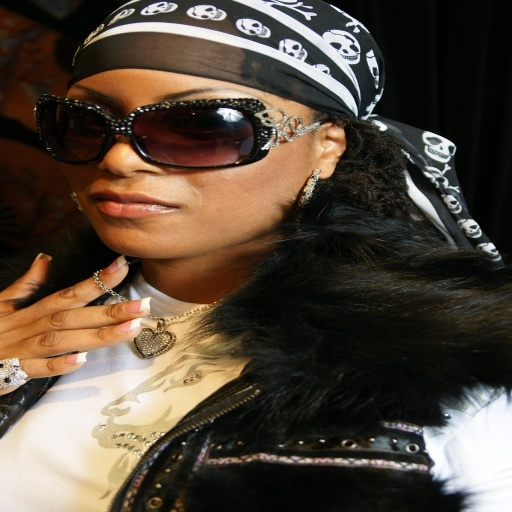hand: (6, 250, 178, 375)
